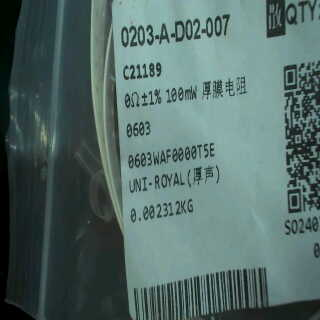0R: (120, 78, 201, 141)
